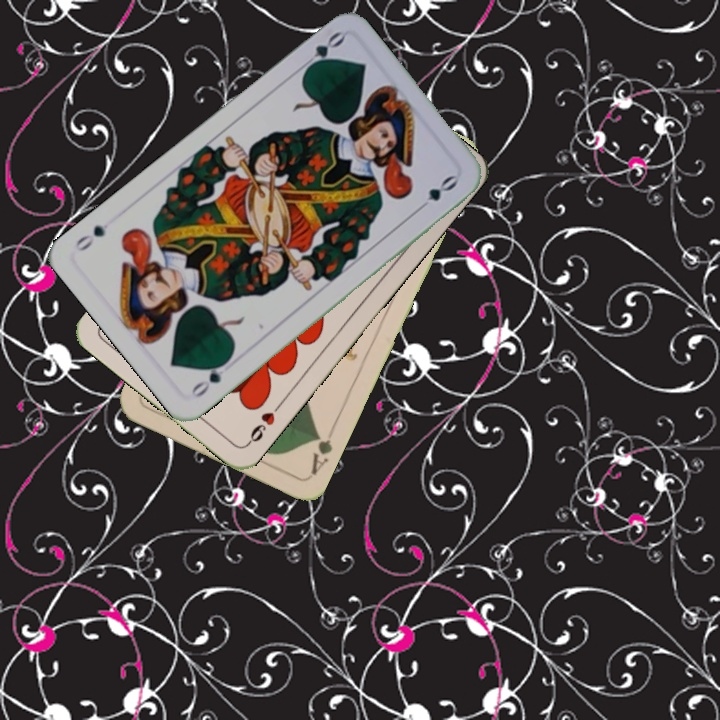GA: (306, 428, 335, 478)
GO: (295, 27, 347, 76), (187, 354, 233, 401)
H9: (243, 398, 285, 448)
